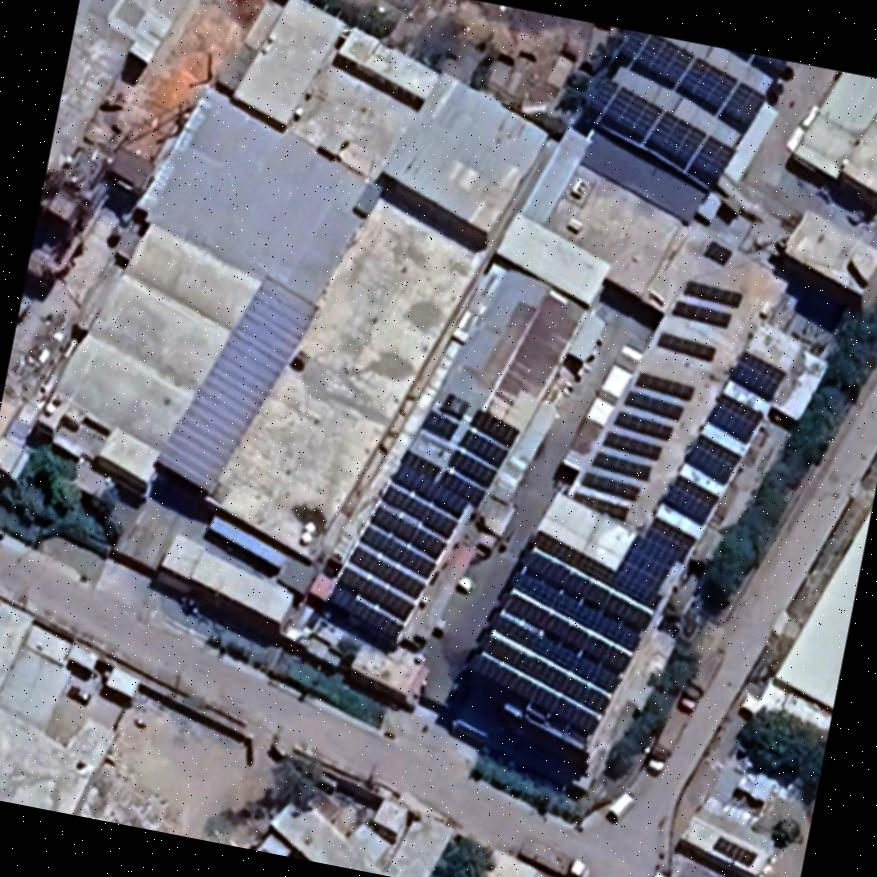Solarpanel: (312, 386, 528, 651), (454, 540, 661, 746), (559, 366, 699, 529), (573, 70, 741, 190), (516, 512, 698, 612), (610, 30, 772, 134), (666, 278, 743, 332), (679, 428, 746, 490), (657, 472, 725, 532), (702, 388, 765, 450), (723, 349, 789, 401), (650, 325, 725, 366), (721, 48, 792, 84), (708, 831, 754, 873)
